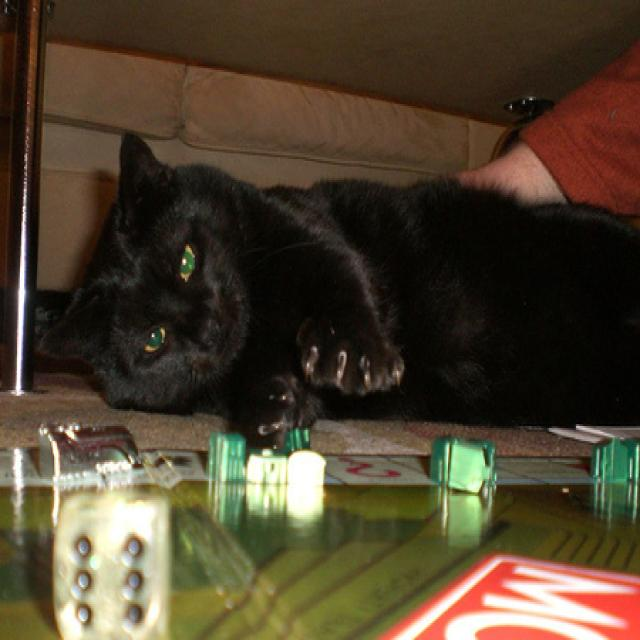Bombay: (28, 127, 640, 466)
